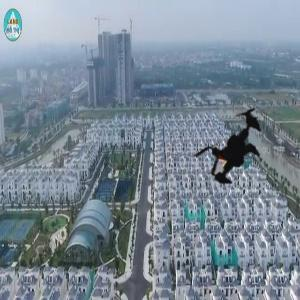drone: (169, 83, 293, 207)
